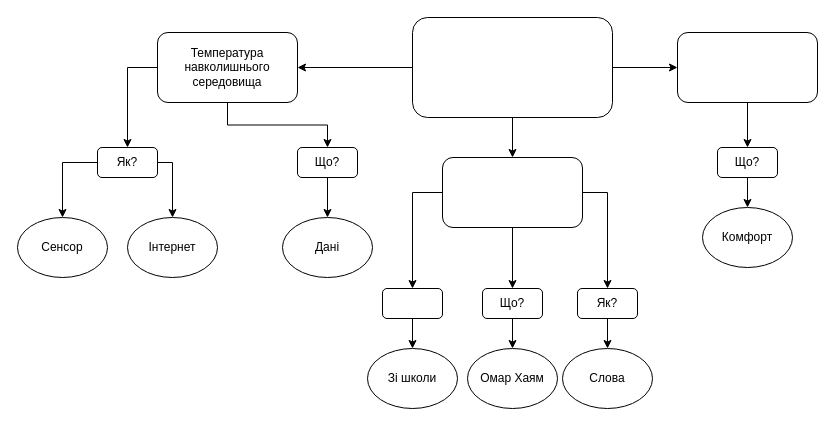
The diagram is 835 pixels wide and 426 high, and some of its shapes have lost their labels. The shapes that lost their labels are listed below. From the top down, each one's centre as x and y in pixels, then its label:
At point (512, 67): "Безпечна/комфортна температура навколишнього середовища для читання поезії".
At point (747, 67): "Стан фізичного здоров'я".
At point (512, 192): "Зацікавленість літературною поезією".
At point (412, 303): "Коли?".
